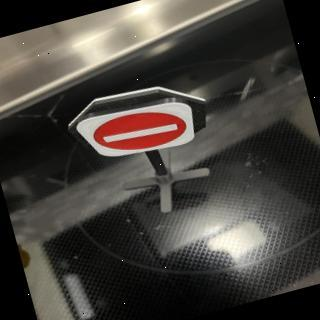sign_noentry: (74, 88, 205, 172)
